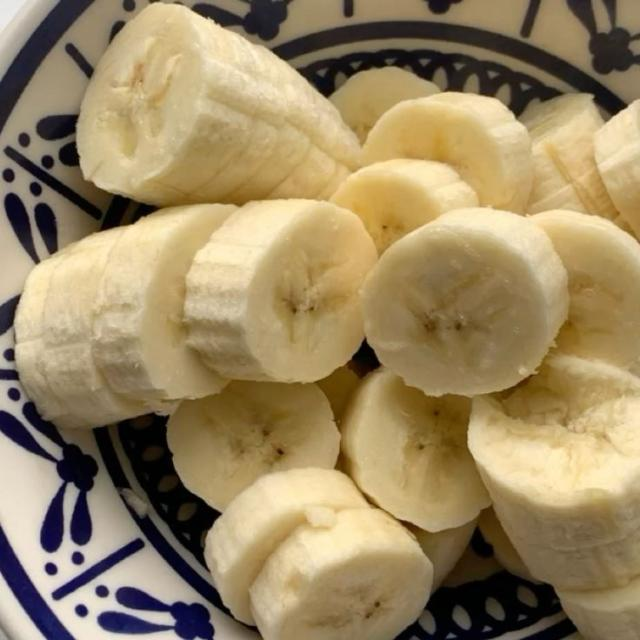banana slice: (78, 3, 360, 206), (469, 356, 639, 589), (362, 209, 568, 395), (186, 200, 376, 382), (94, 205, 234, 407), (205, 468, 370, 624), (340, 369, 490, 532), (250, 509, 433, 639), (167, 382, 339, 511), (39, 228, 148, 427), (363, 93, 533, 213), (530, 211, 639, 366), (332, 159, 478, 253), (520, 94, 618, 219), (14, 246, 72, 416), (330, 67, 439, 143), (594, 100, 639, 234), (557, 577, 640, 640), (408, 520, 477, 592), (265, 146, 349, 199), (478, 508, 533, 580), (318, 364, 360, 423)
